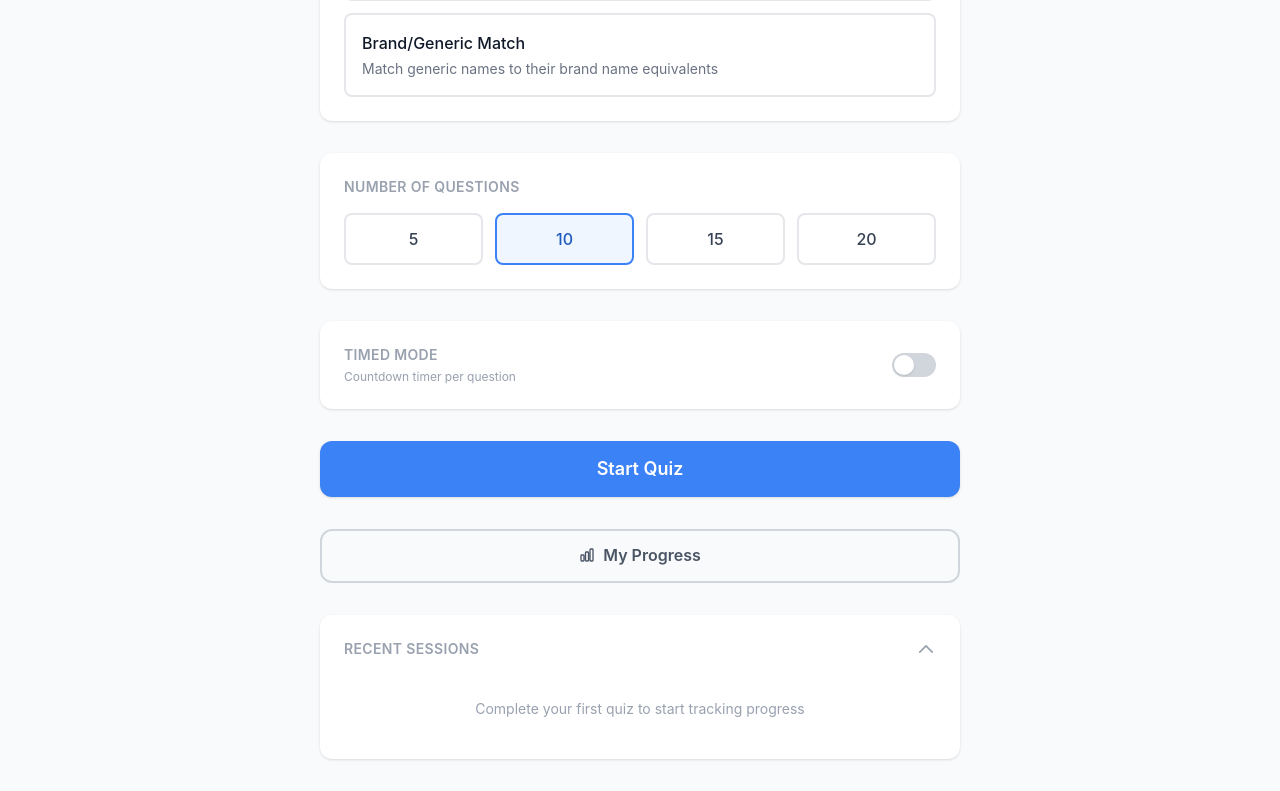
Test: App › shows quiz question after loading
(page scrolled)
Click the button "Start Quiz" at (640, 469), box [320, 441, 960, 497]
(page scrolled)
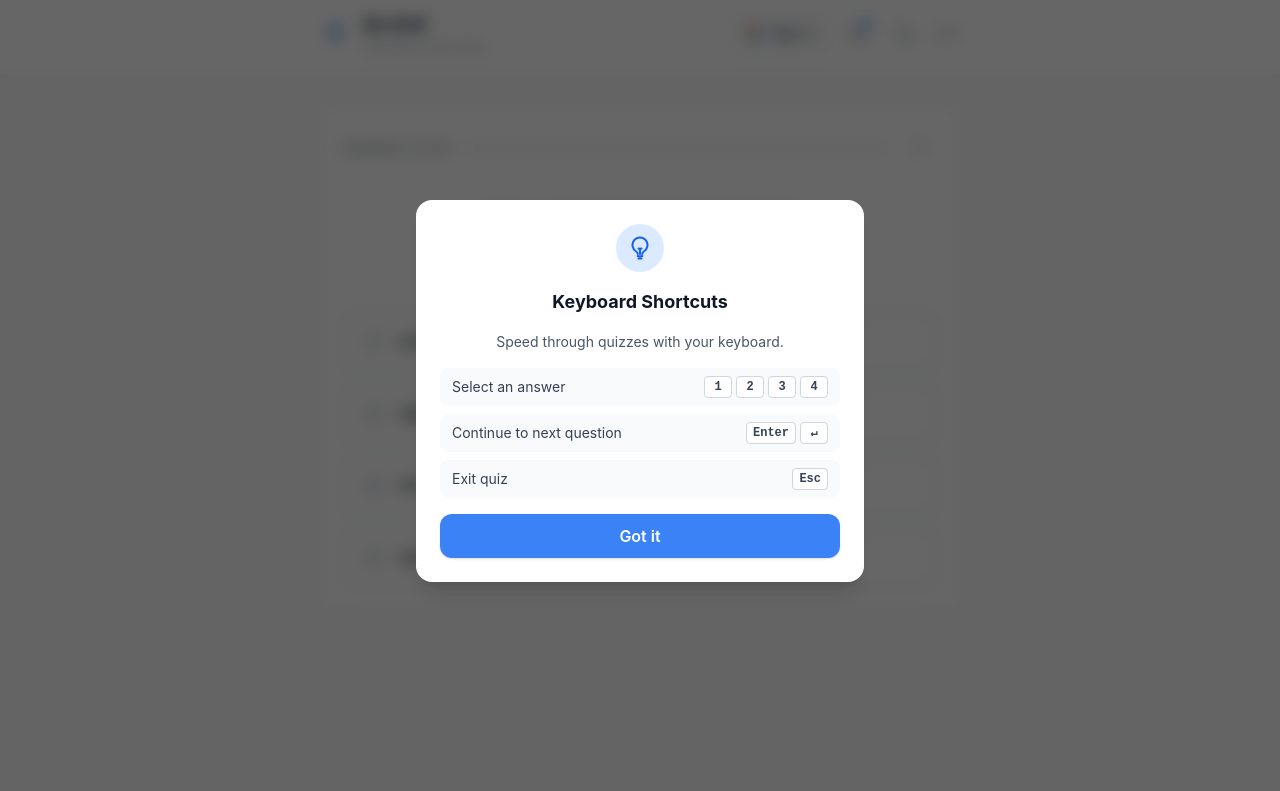
expect the text "simvastatin" is shown: met, box [555, 236, 725, 272]
expect the text "HMG-CoA Reductase Inhibitor" is shown: met, box [398, 402, 626, 426]
